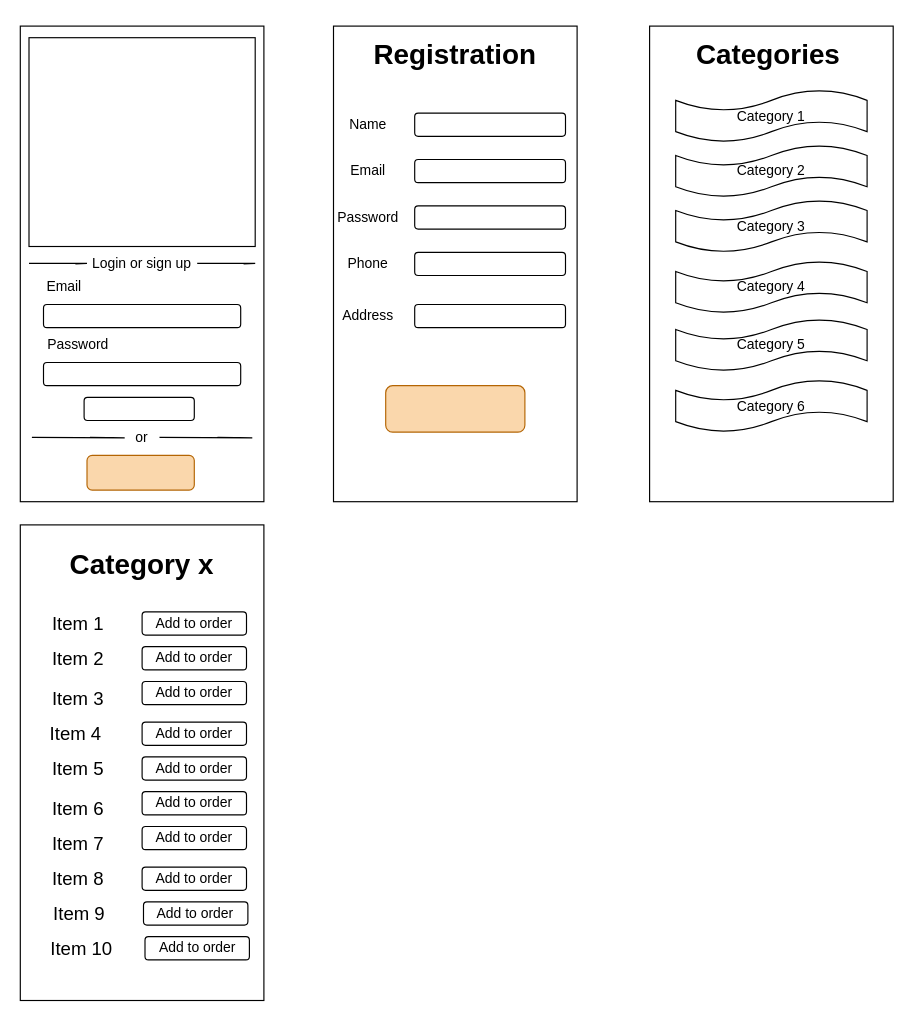
The diagram is 914 pixels wide and 1021 high, and some of its shapes have lost their labels. The centre of each missing label's shape, as x and y in pixels:
Login: the point at 138,408
Photo: the point at 141,141
Register: the point at 455,408
Sign Up: the point at 140,472
